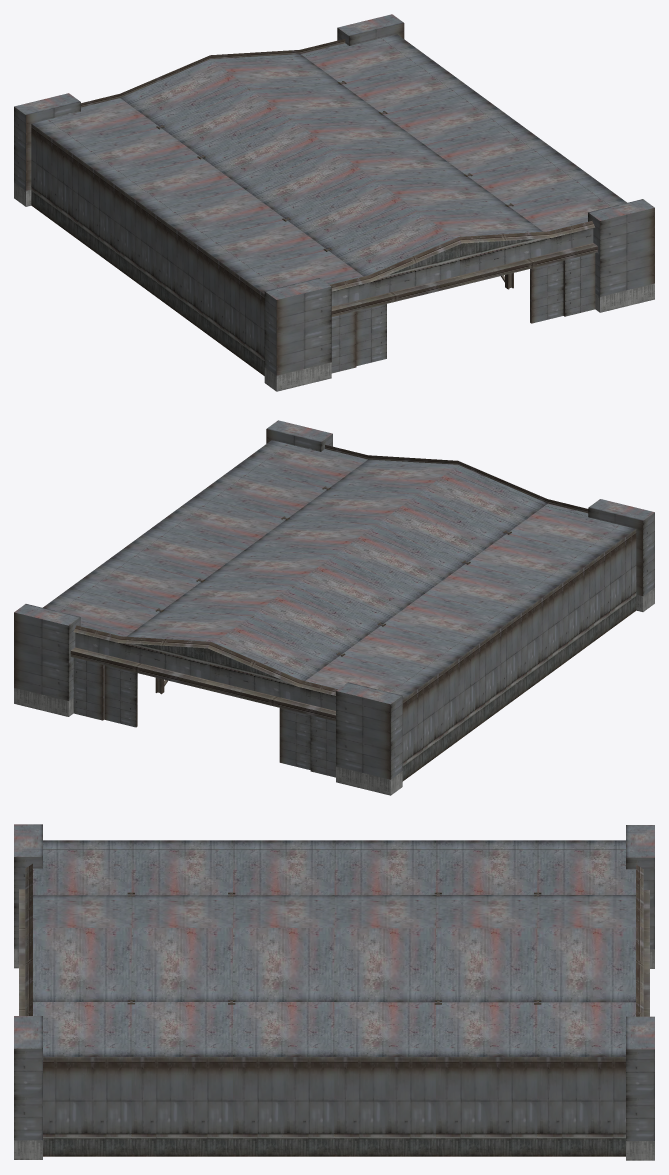
File: ind-hangar.windows-v1.lod0.glb
The picture shows the model from 3 angles, top to bottom: view 1: azimuth 30°, elevation 25°; view 2: azimuth 150°, elevation 25°; view 3: azimuth 270°, elevation 25°; orthographic projection. The views are drawn at different scales.
Parts seen in each view (by area): view 1: Industrial_Hangar_2_Industrial_Walls_FLR_1_0; view 2: Industrial_Hangar_2_Industrial_Walls_FLR_1_0; view 3: Industrial_Hangar_2_Industrial_Walls_FLR_1_0.
Part boxes in pixels (x1,y1,x2,y2): Industrial_Hangar_2_Industrial_Walls_FLR_1_0: (14,14,654,391); Industrial_Hangar_2_Industrial_Walls_FLR_1_0: (14,420,654,795); Industrial_Hangar_2_Industrial_Walls_FLR_1_0: (14,824,654,1160).
Size of the model in its own units: 49.78 by 12.88 by 59.96.
Materials: 1 (1 with a texture image).
